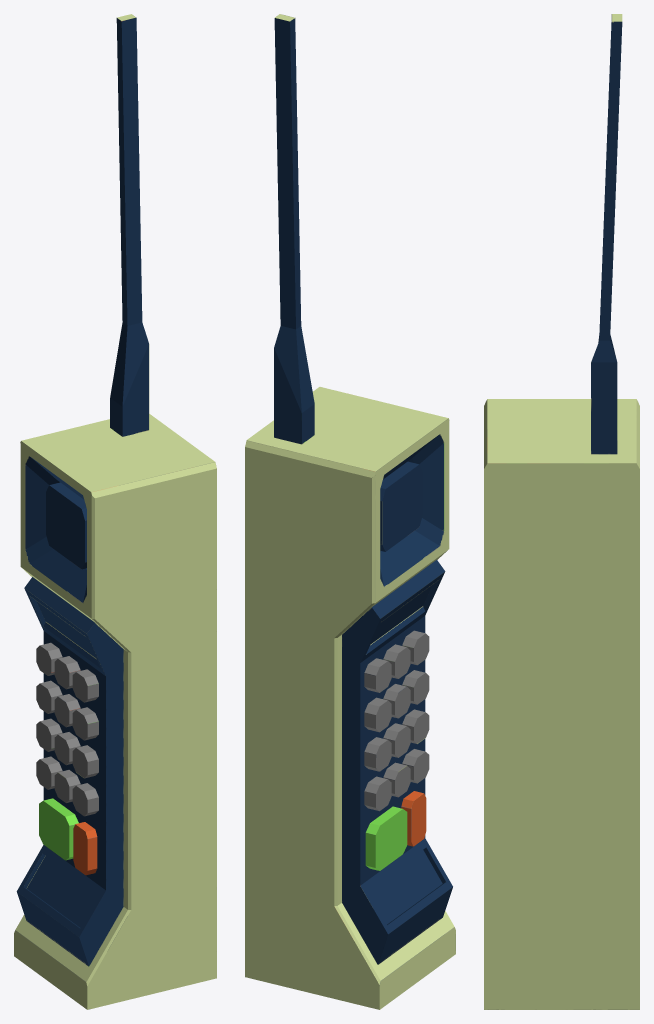
The model's file is phone.glb.
3 views of the same model, side by side, from view 1: azimuth 30°, elevation 25°; view 2: azimuth 150°, elevation 25°; view 3: azimuth 270°, elevation 25° (orthographic). The views are drawn at different scales.
Parts seen in each view (by area): view 1: phone; view 2: phone; view 3: phone.
Boxes of the visible parts, <box> form: phone: <box>14,14,216,1009</box>; phone: <box>245,14,455,1009</box>; phone: <box>484,14,639,1009</box>.
Bounding box in the file's own units: 2.26 × 15.02 × 2.17.
1 material, 1 textured.
